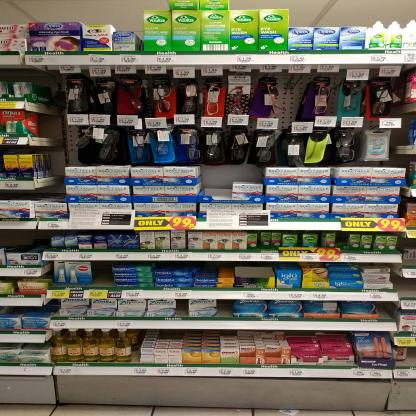empty_space: (280, 65, 313, 118), (93, 261, 112, 287), (399, 278, 416, 298)
